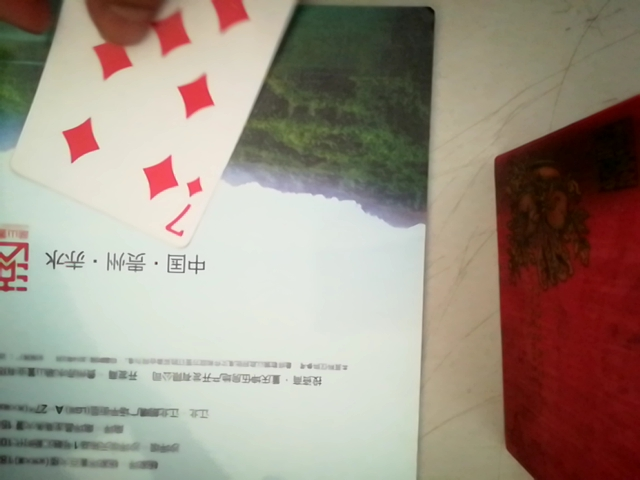fk 7: (13, 4, 293, 253)
